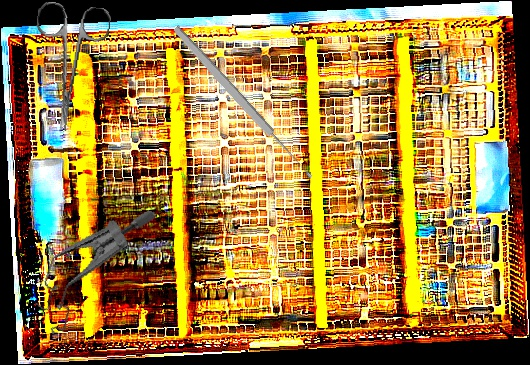Iris Scissors: (24, 0, 112, 135)
Speculum: (26, 184, 158, 354)
Surgical Spoon: (170, 23, 316, 183)
